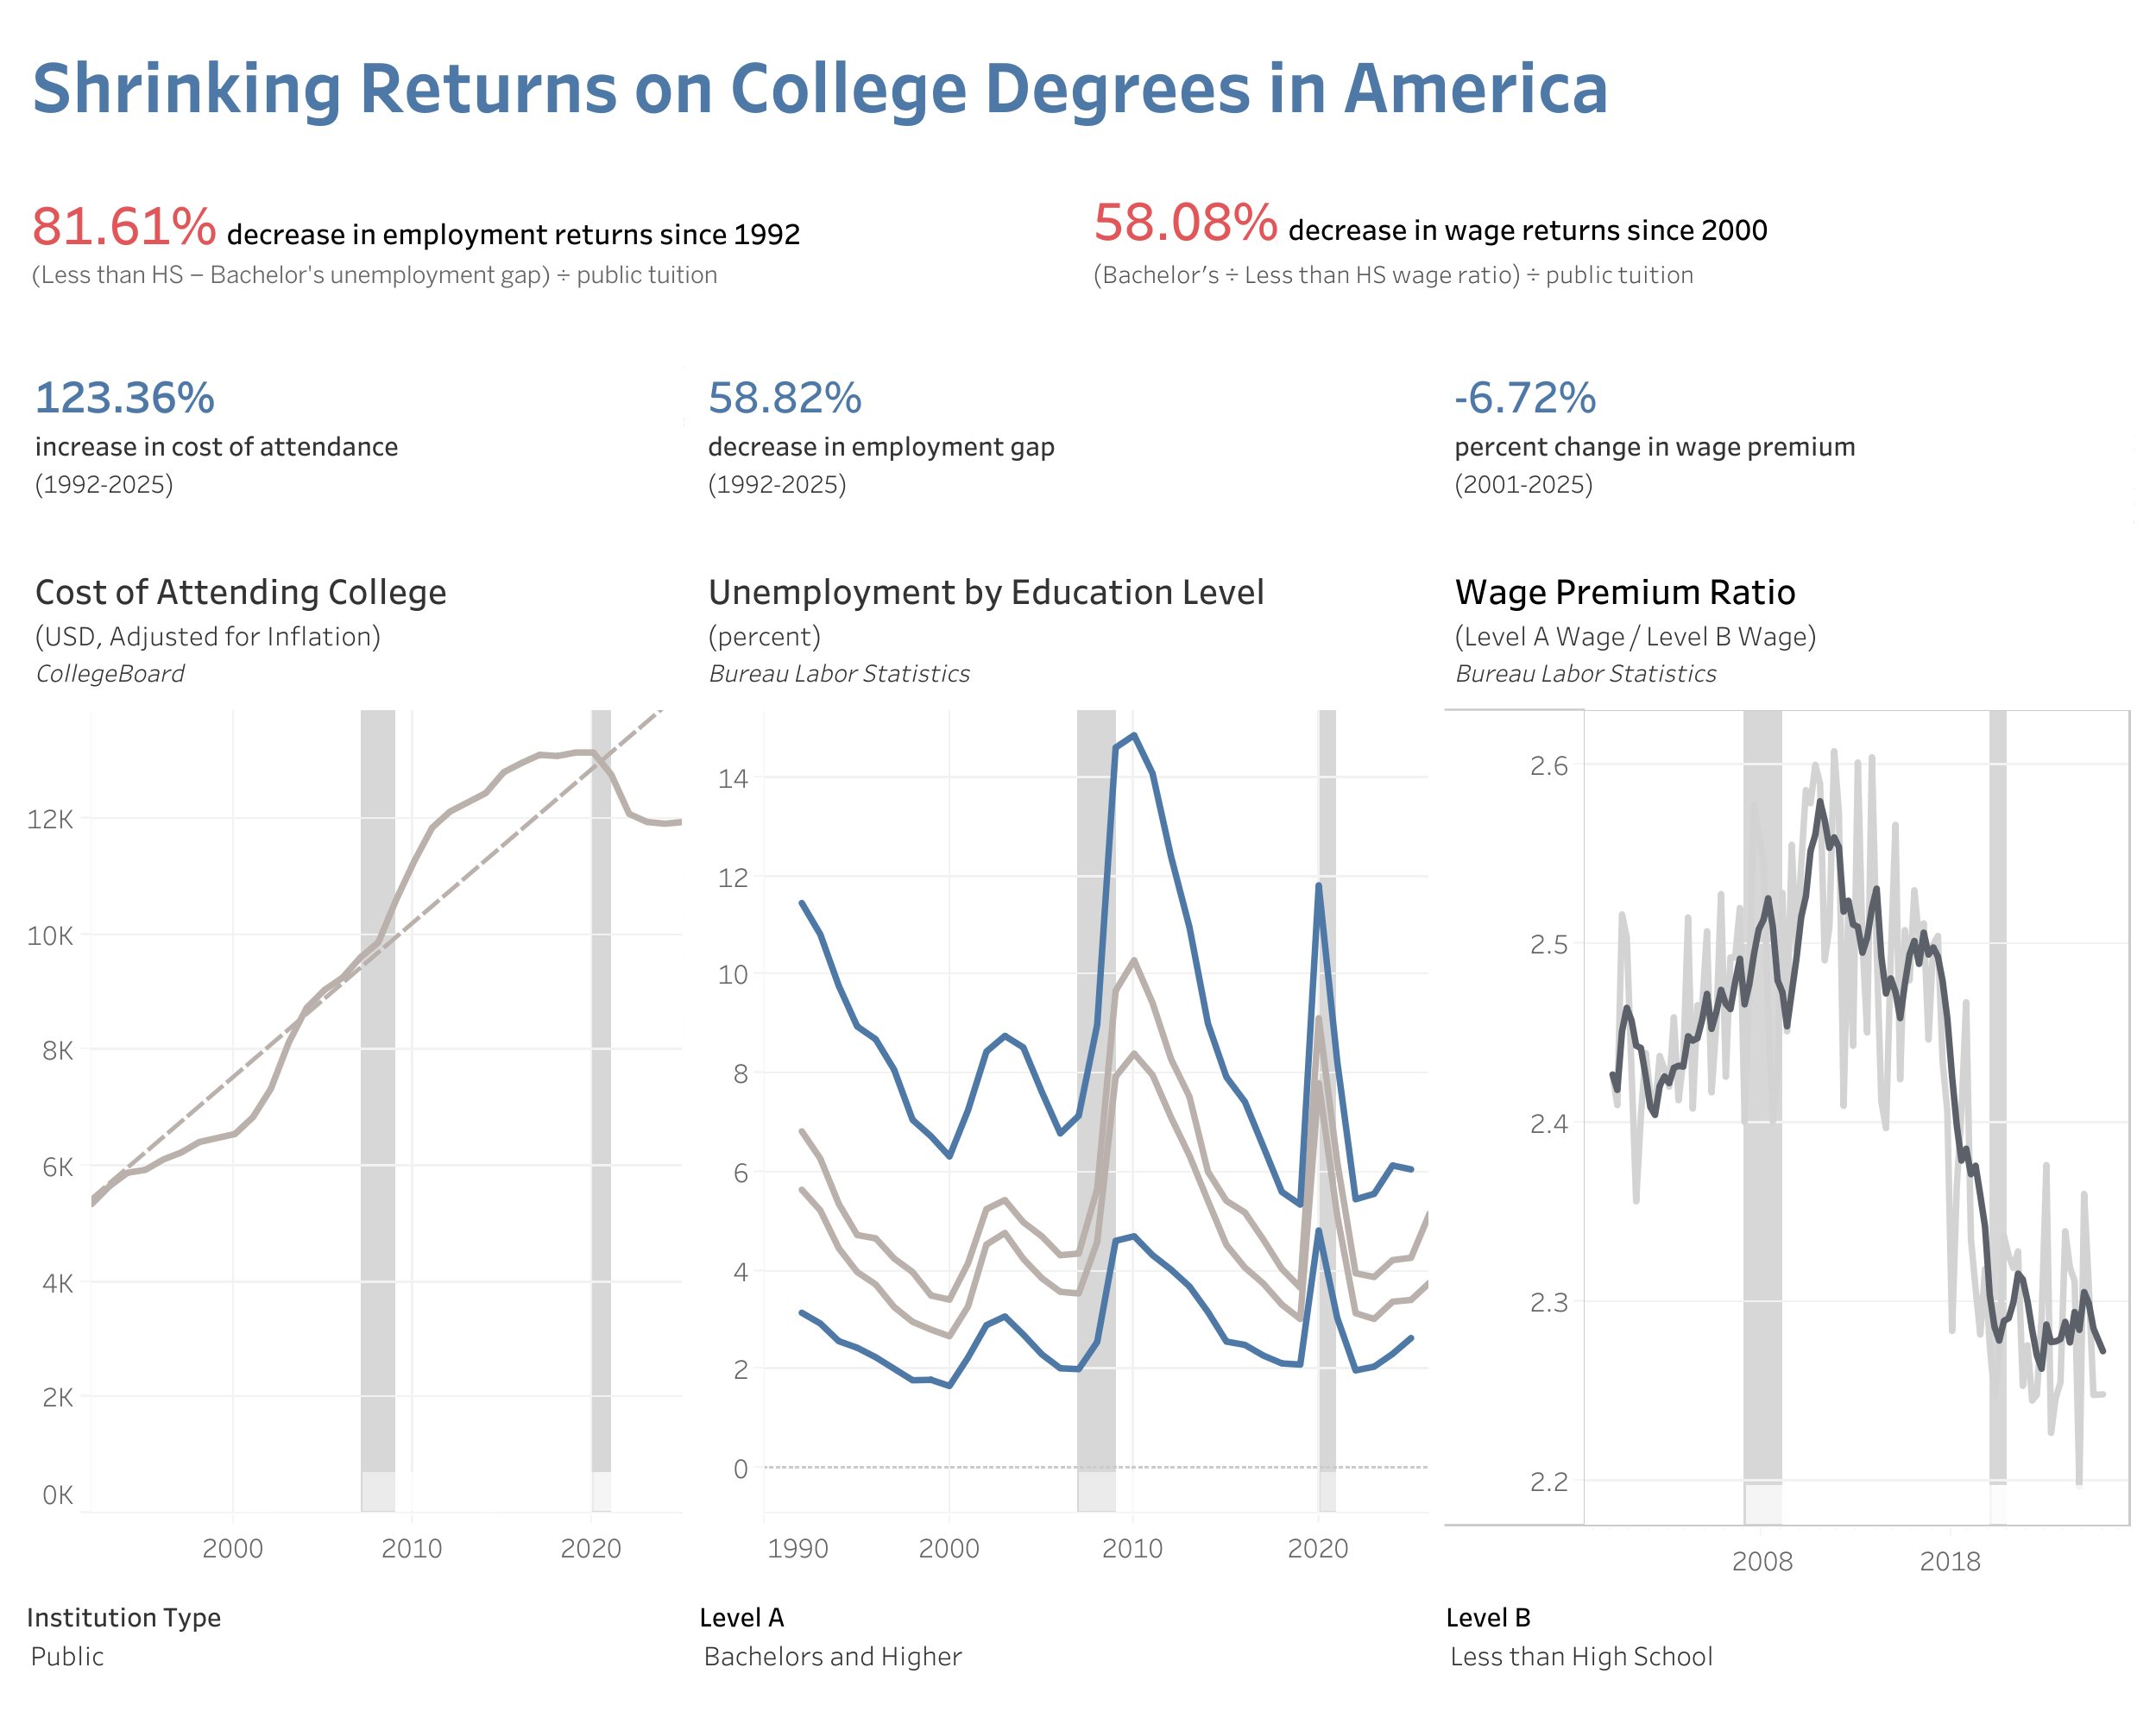

The page's visual inventory and layout, read from the dashboard file:
{"tool":"tableau","page":{"name":"Dashboard 1","canvas":[1000,800],"ordinal":0},"visuals":[{"type":"title","box":[8,8,984,62]},{"type":"text","box":[8,70,492,79]},{"type":"text","box":[500,70,492,79]},{"type":"worksheet","title":"Sheet 7","mark":"Text","box":[8,149,312,103]},{"type":"worksheet","title":"Sheet 8","mark":"Automatic","box":[320,149,346,103]},{"type":"worksheet","title":"Sheet 9","mark":"Text","box":[666,149,326,103]},{"type":"worksheet","title":"cost of college","mark":"Automatic","rows":["Calculation_1077767748869259278"],"cols":["year"],"box":[8,252,312,483]},{"type":"worksheet","title":"Unemployment Rate by Education Level","mark":"Automatic","rows":["Pivot Field Values"],"cols":["Year"],"box":[320,252,346,483]},{"type":"worksheet","title":"Wage Premium Ratio","mark":"Automatic","rows":["Calculation_1804254663674216449"],"cols":["Quarter"],"box":[666,252,326,483]},{"type":"parameter","param":"[Parameters].[Parameter 3]","box":[8,735,312,57]},{"type":"parameter","param":"[Parameters].[Parameter 1]","box":[320,735,346,57]},{"type":"parameter","param":"[Parameters].[Parameter 2]","box":[666,735,326,57]}]}

Visuals, with their boxes in screenshot pixels (x1, y1, x2, y2), scaled from the page's 1000x800 canvas onto the 2156x1724 screenshot:
title: box=[17, 17, 2139, 151]
text: box=[17, 151, 1078, 321]
text: box=[1078, 151, 2139, 321]
"Sheet 7" worksheet (Text marks): box=[17, 321, 690, 543]
"Sheet 8" worksheet: box=[690, 321, 1436, 543]
"Sheet 9" worksheet (Text marks): box=[1436, 321, 2139, 543]
"cost of college" worksheet: box=[17, 543, 690, 1584]
"Unemployment Rate by Education Level" worksheet: box=[690, 543, 1436, 1584]
"Wage Premium Ratio" worksheet: box=[1436, 543, 2139, 1584]
parameter: box=[17, 1584, 690, 1707]
parameter: box=[690, 1584, 1436, 1707]
parameter: box=[1436, 1584, 2139, 1707]
